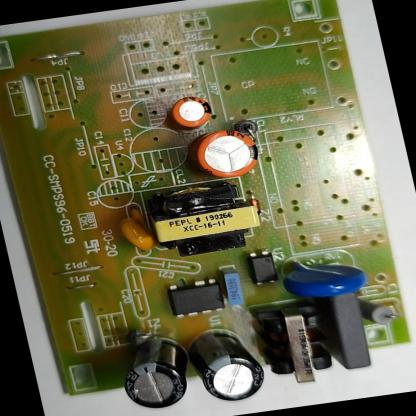Cap1: (184, 122, 266, 183)
Cap2: (164, 90, 217, 131)
Cap3: (180, 322, 272, 408)
Cap4: (108, 330, 196, 413)
MOSFET: (163, 274, 231, 321)
Mov: (275, 248, 374, 304)
Resistor: (355, 292, 400, 328)
Transformer: (138, 178, 268, 261), (247, 298, 342, 392)
